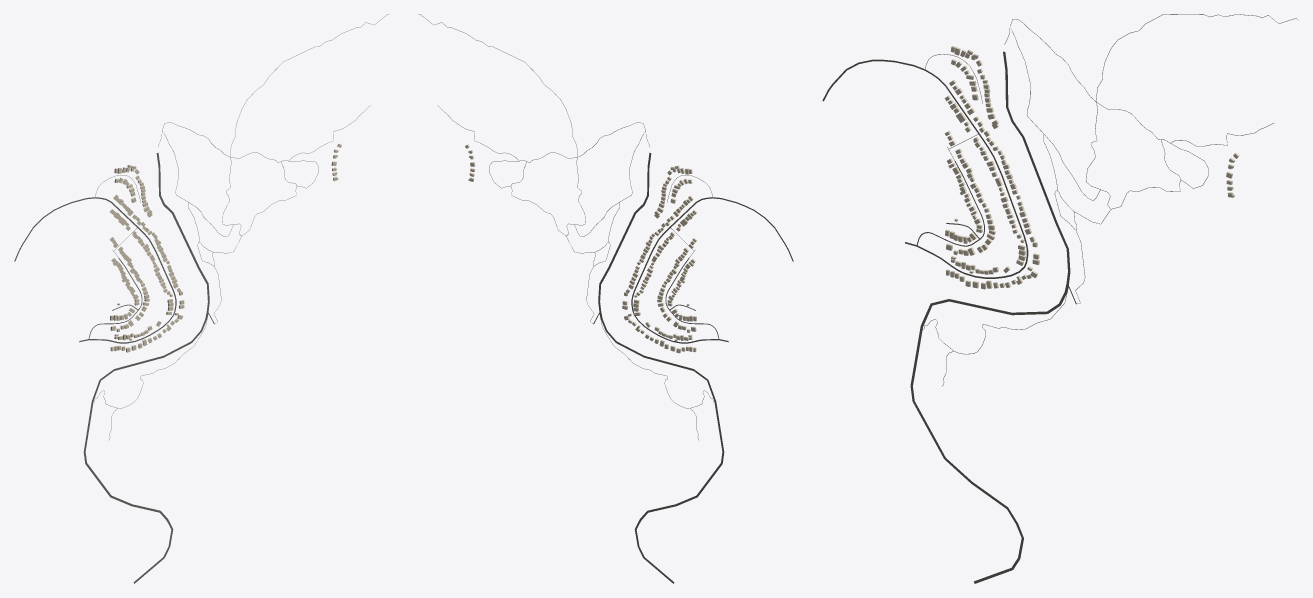
The model's file is historic-palestine-11_35_3528_3299.glb.
The picture shows the model from 3 angles, left to right: view 1: azimuth 30°, elevation 25°; view 2: azimuth 150°, elevation 25°; view 3: azimuth 330°, elevation 25°; orthographic projection. The views are drawn at different scales.
Visible parts, largest first — view 1: Road 854, Road שניר; view 2: Road 854, Road שניר; view 3: Road 854, Road שניר.
Part boxes in pixels (x1,y1,x2,y2): Road 854: (83,152,209,583); Road שניר: (14,197,176,343); Road 854: (598,152,724,583); Road שניר: (631,197,793,343); Road 854: (910,51,1070,583); Road שניר: (822,59,1028,278).
Size of the model in its own units: 1565 by 2023 by 8.7.
